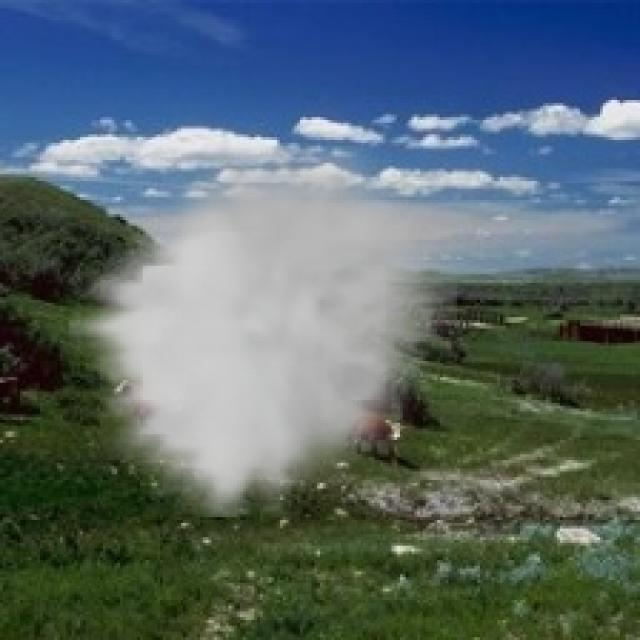smoke: (69, 146, 457, 517)
